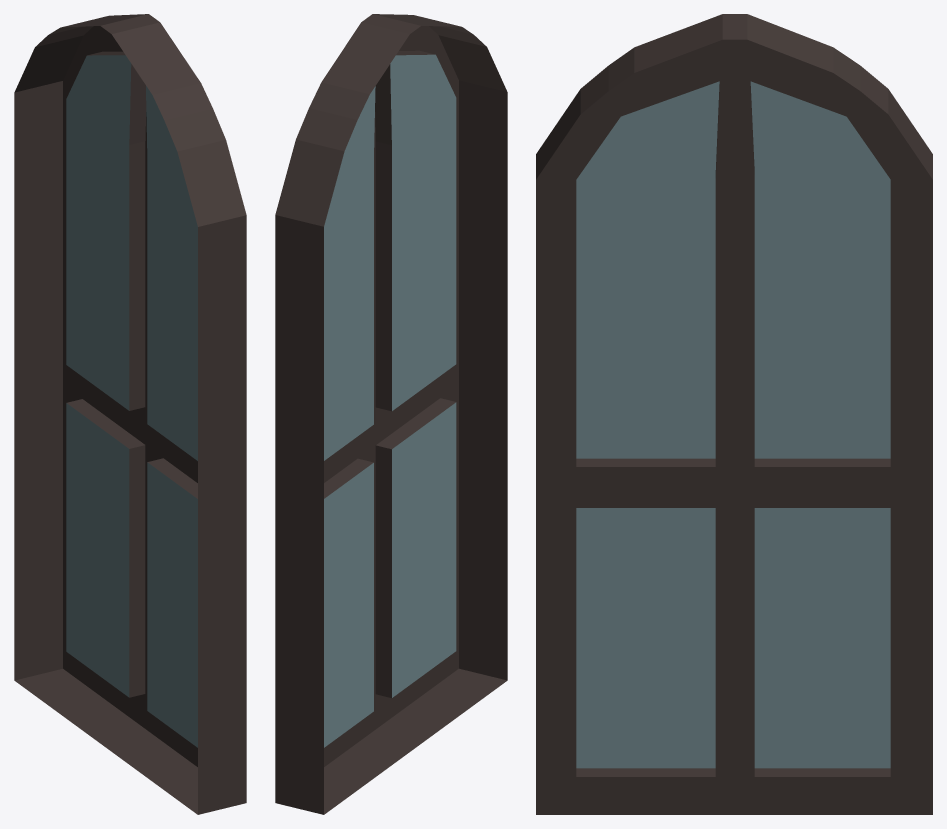
The model's file is window.fbx.
3 renders of one model, left to right at view 1: azimuth 30°, elevation 25°; view 2: azimuth 150°, elevation 25°; view 3: azimuth 270°, elevation 25°, orthographic. The views are drawn at different scales.
Visible parts, largest first — view 1: Cube; view 2: Cube; view 3: Cube.
Part boxes in pixels (x1,y1,x2,y2): Cube: [14, 14, 246, 814]; Cube: [275, 14, 507, 814]; Cube: [536, 14, 932, 814].
Bounding box in the file's own units: 30.63 × 431 × 200.
